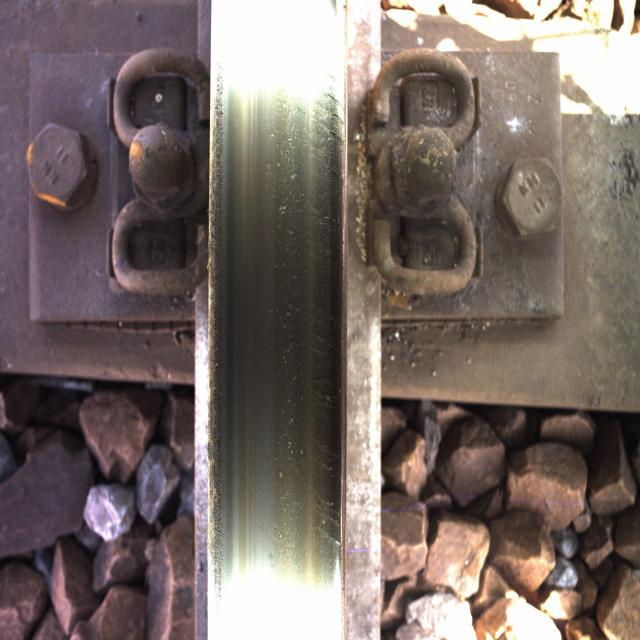normal: (229, 74, 339, 576)
